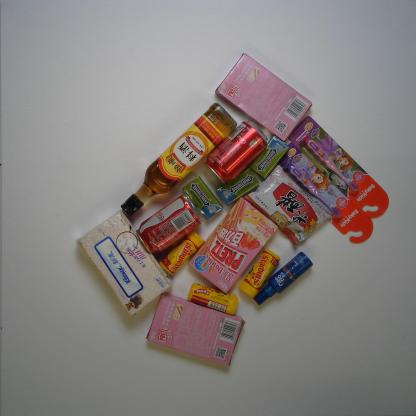Candy: (156, 227, 206, 279), (237, 245, 281, 300), (185, 280, 243, 318)
Dessert: (214, 50, 315, 144), (186, 195, 280, 295), (142, 289, 248, 369)
Drink: (202, 118, 271, 186), (134, 192, 205, 255)
Gum: (247, 133, 290, 181), (181, 174, 224, 221), (214, 166, 262, 208)
Personal Hygiene: (288, 112, 391, 219), (277, 140, 374, 246), (250, 250, 316, 306)
Seasoner: (119, 100, 238, 220), (240, 163, 335, 249)
Tissue: (72, 206, 176, 320)
